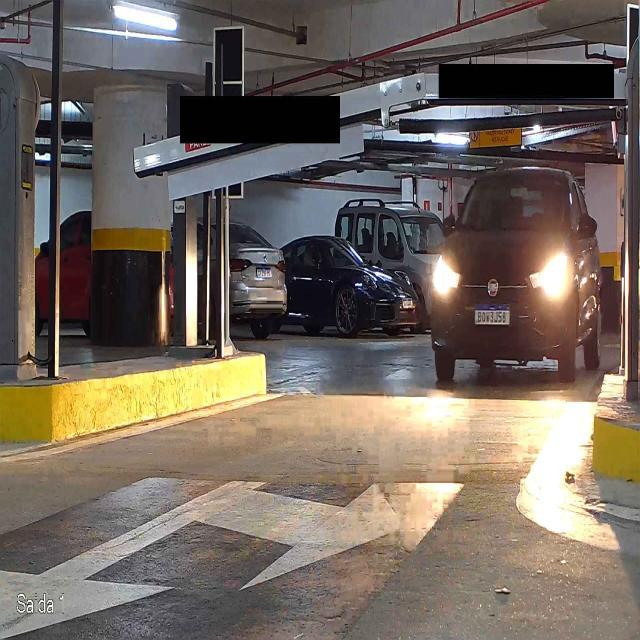mercosul_plate: (473, 303, 511, 326)
